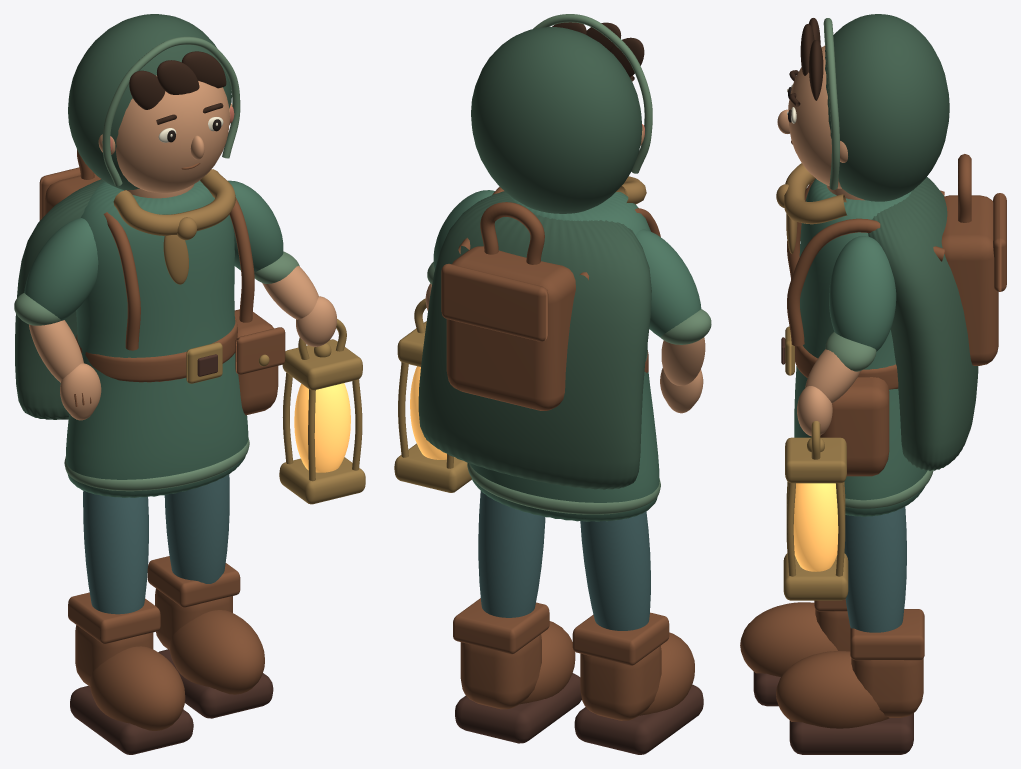
File: ranger-playful.glb
The picture shows the model from 3 angles, left to right: view 1: azimuth 30°, elevation 25°; view 2: azimuth 150°, elevation 25°; view 3: azimuth 270°, elevation 25°; orthographic projection. The views are drawn at different scales.
Parts seen in each view (by area): view 1: Rounded A-line tunic, Soft forest hood, Friendly face, Left trouser leg, Left rounded boot toe, Right rounded boot toe, Right trouser leg, Soft short cape, Relaxed sleeve, Lantern warm light, Left boot sole, Neckerchief collar (+31 smaller); view 2: Soft short cape, Soft forest hood, Canvas backpack, Rounded A-line tunic, Left trouser leg, Right trouser leg, Backpack flap, Right boot upper, Left boot upper, Left boot sole, Right boot sole, Relaxed sleeve (+16 smaller); view 3: Soft short cape, Soft forest hood, Rounded A-line tunic, Right trouser leg, Canvas backpack, Right rounded boot toe, Lantern sleeve, Small side satchel, Left rounded boot toe, Right boot sole, Lantern warm light, Friendly face (+21 smaller).
Boxes of the visible parts, bbox=[...] form: Rounded A-line tunic: bbox=[66, 180, 248, 497]; Soft forest hood: bbox=[68, 14, 231, 190]; Friendly face: bbox=[115, 75, 229, 193]; Left trouser leg: bbox=[83, 490, 148, 614]; Left rounded boot toe: bbox=[90, 646, 185, 730]; Right rounded boot toe: bbox=[169, 610, 264, 694]; Right trouser leg: bbox=[164, 474, 229, 583]; Soft short cape: bbox=[15, 179, 103, 419]; Relaxed sleeve: bbox=[24, 218, 98, 320]; Lantern warm light: bbox=[294, 383, 350, 472]; Left boot sole: bbox=[70, 686, 193, 754]; Neckerchief collar: bbox=[113, 169, 235, 235]; Soft short cape: bbox=[418, 191, 651, 489]; Soft forest hood: bbox=[471, 27, 642, 213]; Canvas backpack: bbox=[446, 246, 575, 410]; Rounded A-line tunic: bbox=[469, 192, 659, 521]; Left trouser leg: bbox=[580, 511, 650, 630]; Right trouser leg: bbox=[478, 491, 545, 617]; Backpack flap: bbox=[441, 263, 548, 341]; Right boot upper: bbox=[460, 634, 541, 709]; Left boot upper: bbox=[580, 646, 661, 720]; Left boot sole: bbox=[574, 684, 703, 754]; Right boot sole: bbox=[455, 673, 581, 743]; Relaxed sleeve: bbox=[635, 229, 701, 337]; Soft short cape: bbox=[868, 177, 978, 470]; Soft forest hood: bbox=[825, 14, 949, 201]; Rounded A-line tunic: bbox=[794, 178, 927, 516]; Right trouser leg: bbox=[844, 506, 906, 632]; Canvas backpack: bbox=[941, 195, 998, 365]; Right rounded boot toe: bbox=[776, 651, 889, 728]; Lantern sleeve: bbox=[829, 236, 896, 351]; Small side satchel: bbox=[820, 377, 889, 476]; Left rounded boot toe: bbox=[740, 602, 837, 676]; Right boot sole: bbox=[789, 713, 913, 754]; Lantern warm light: bbox=[793, 483, 838, 571]; Friendly face: bbox=[788, 45, 841, 188].
Bounding box in the file's own units: 0.9294 × 1.93 × 0.6714.
